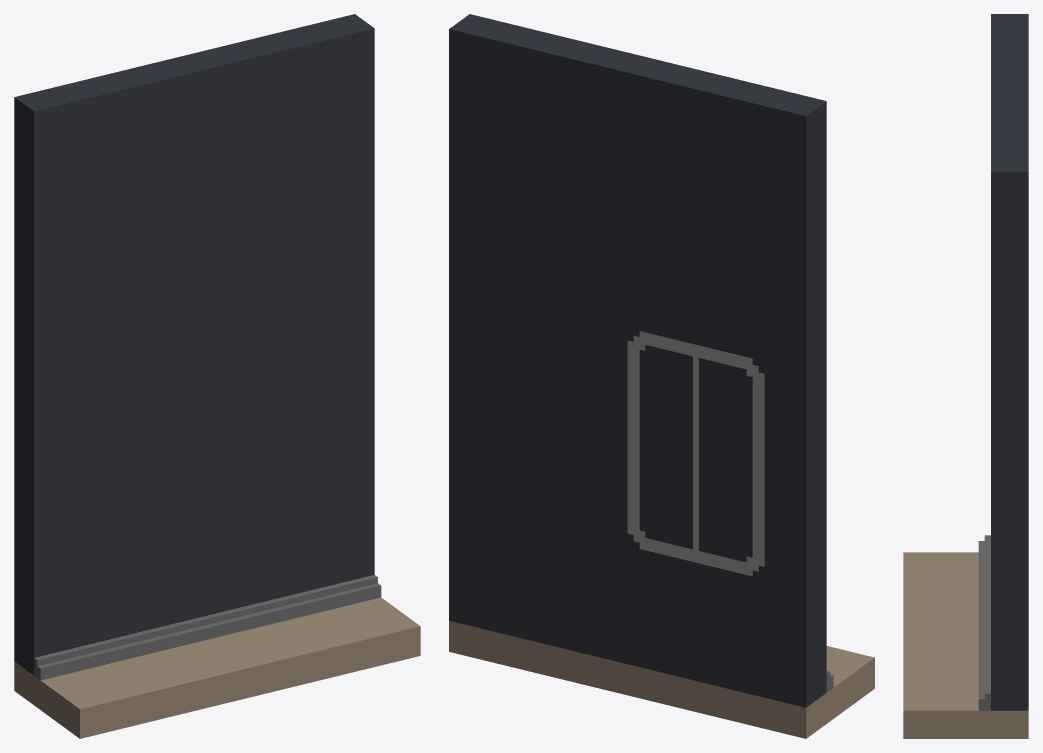
File: wholeWithoutWindow.obj
3 views of the same model, side by side, from view 1: azimuth 30°, elevation 25°; view 2: azimuth 150°, elevation 25°; view 3: azimuth 270°, elevation 25° (orthographic). The views are drawn at different scales.
Bounding box in the file's own units: 6 × 10 × 2.
1 material, 1 textured.
